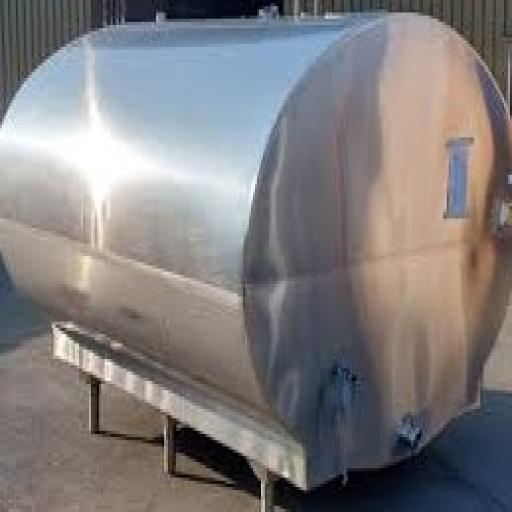silo: (0, 17, 510, 509)
